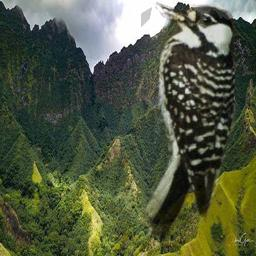Woodpecker: (141, 1, 235, 254)
